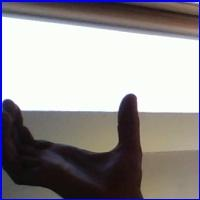space: (0, 72, 158, 195)
